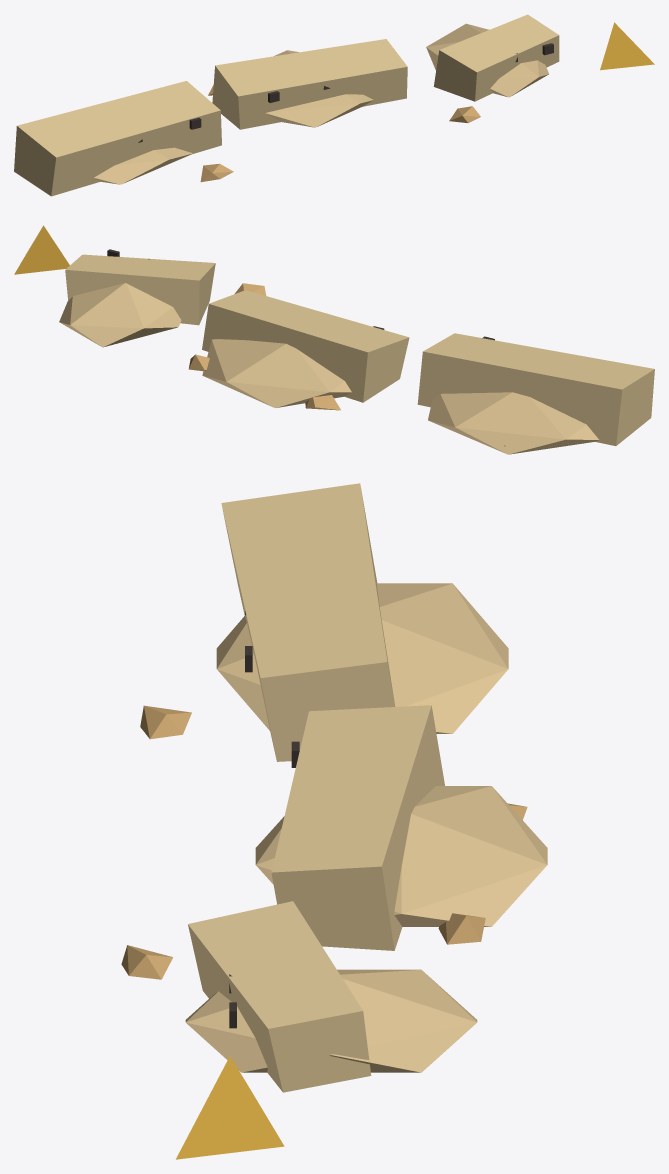
File: desert_obelisk_fallen.glb
The picture shows the model from 3 angles, top to bottom: view 1: azimuth 30°, elevation 25°; view 2: azimuth 150°, elevation 25°; view 3: azimuth 270°, elevation 25°; orthographic projection. The views are drawn at different scales.
Parts seen in each view (by area): view 1: desert_obelisk_fallen; view 2: desert_obelisk_fallen; view 3: desert_obelisk_fallen.
Part boxes in pixels (x1,y1,x2,y2): desert_obelisk_fallen: (14, 14, 654, 196); desert_obelisk_fallen: (14, 225, 654, 454); desert_obelisk_fallen: (121, 483, 547, 1159).
Bounding box in the file's own units: 8.77 × 0.6986 × 2.73.
